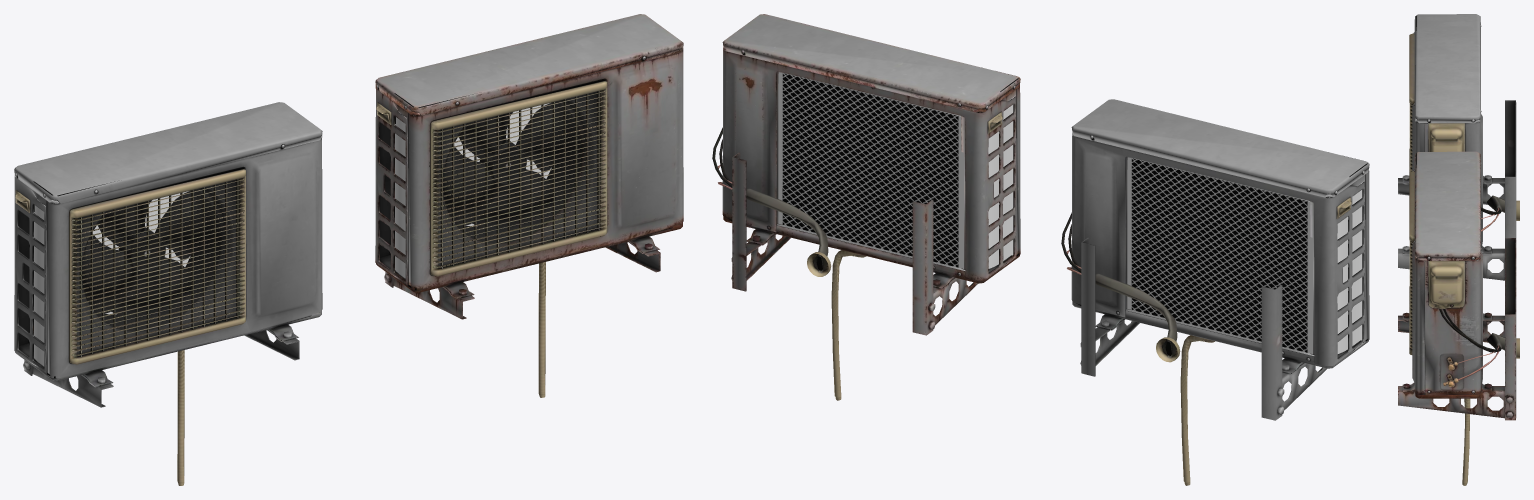
File: ph_exterior_aircon_unit.glb
3 views of the same model, side by side, from view 1: azimuth 30°, elevation 25°; view 2: azimuth 150°, elevation 25°; view 3: azimuth 270°, elevation 25° (orthographic). The views are drawn at different scales.
Parts seen in each view (by area): view 1: exterior_aircon_unit, exterior_aircon_unit_rusted; view 2: exterior_aircon_unit, exterior_aircon_unit_rusted; view 3: exterior_aircon_unit_rusted, exterior_aircon_unit.
Boxes of the visible parts, box(x1,y1,x2,y2) form: exterior_aircon_unit: box(14, 102, 322, 485); exterior_aircon_unit_rusted: box(375, 14, 683, 397); exterior_aircon_unit: box(1061, 99, 1369, 485); exterior_aircon_unit_rusted: box(712, 14, 1020, 400); exterior_aircon_unit_rusted: box(1398, 151, 1519, 485); exterior_aircon_unit: box(1398, 14, 1519, 280).
Bounding box in the file's own units: 1.8 × 0.9279 × 0.3742.
Materials: 4 (4 with a texture image).
